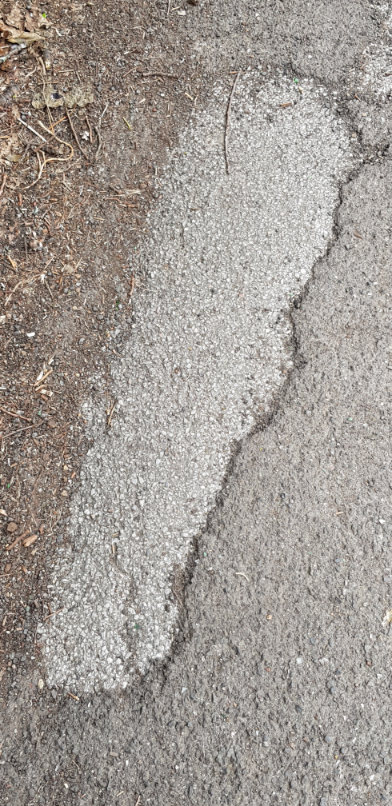pothole: (8, 57, 377, 705)
